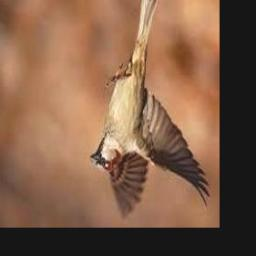Sparrow: (90, 0, 210, 219)
